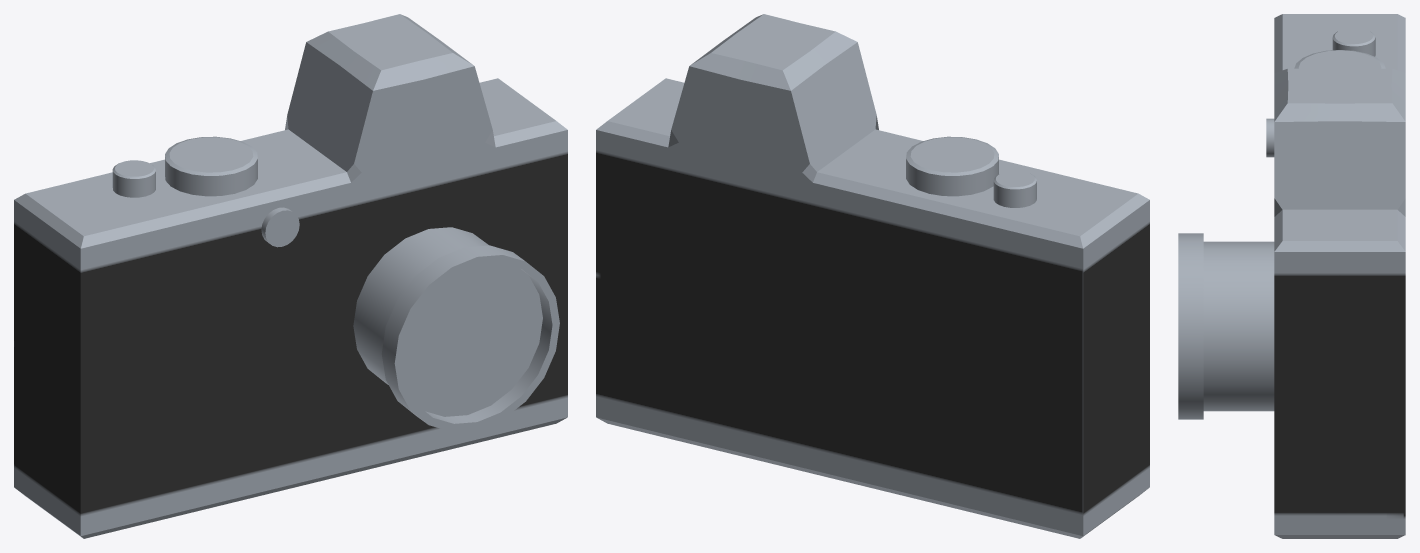
Rendered from CAMERA.fbx.
The picture shows the model from 3 angles, left to right: view 1: azimuth 30°, elevation 25°; view 2: azimuth 150°, elevation 25°; view 3: azimuth 270°, elevation 25°; orthographic projection.
Visible parts, largest first — view 1: pCube1, pCylinder4, pCylinder1, pCylinder2, pCylinder3; view 2: pCube1, pCylinder1, pCylinder2; view 3: pCube1, pCylinder4, pCylinder1, pCylinder2, pCylinder3.
Boxes of the visible parts, <box> form: pCube1: <box>14,14,567,538</box>; pCylinder4: <box>353,227,559,431</box>; pCylinder1: <box>165,136,257,196</box>; pCylinder2: <box>112,160,155,197</box>; pCylinder3: <box>261,207,299,247</box>; pCube1: <box>596,14,1149,538</box>; pCylinder1: <box>906,136,998,196</box>; pCylinder2: <box>993,170,1036,207</box>; pCube1: <box>1274,14,1405,538</box>; pCylinder4: <box>1178,233,1274,419</box>; pCylinder1: <box>1294,50,1385,68</box>; pCylinder2: <box>1332,28,1375,56</box>; pCylinder3: <box>1266,118,1274,157</box>.
Bounding box in the file's own units: 8.42 × 6.5 × 3.46.
